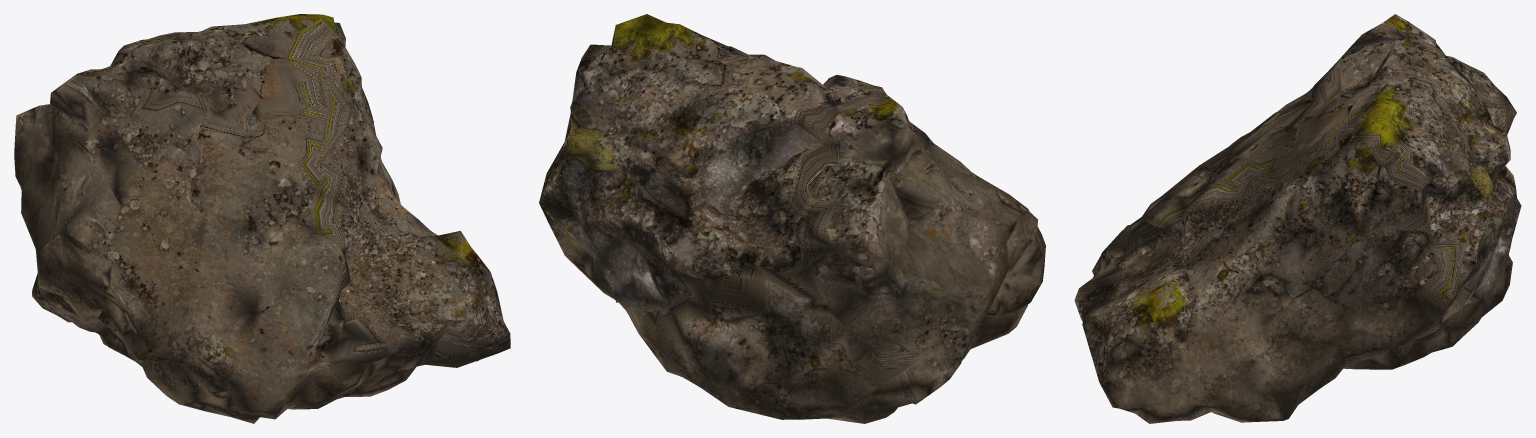
The model's file is boulder-round.glb.
The picture shows the model from 3 angles, left to right: view 1: azimuth 30°, elevation 25°; view 2: azimuth 150°, elevation 25°; view 3: azimuth 270°, elevation 25°; orthographic projection. The views are drawn at different scales.
Visible parts, largest first — view 1: tbpwp_LOD0_TIER0_000; view 2: tbpwp_LOD0_TIER0_000; view 3: tbpwp_LOD0_TIER0_000.
Boxes of the visible parts, x1,y1,x2,y2 form: tbpwp_LOD0_TIER0_000: (14,14,510,423); tbpwp_LOD0_TIER0_000: (539,14,1045,423); tbpwp_LOD0_TIER0_000: (1074,14,1521,423).
Size of the model in its own units: 3.22 by 2.54 by 3.39.
Materials: 1 (1 with a texture image).
